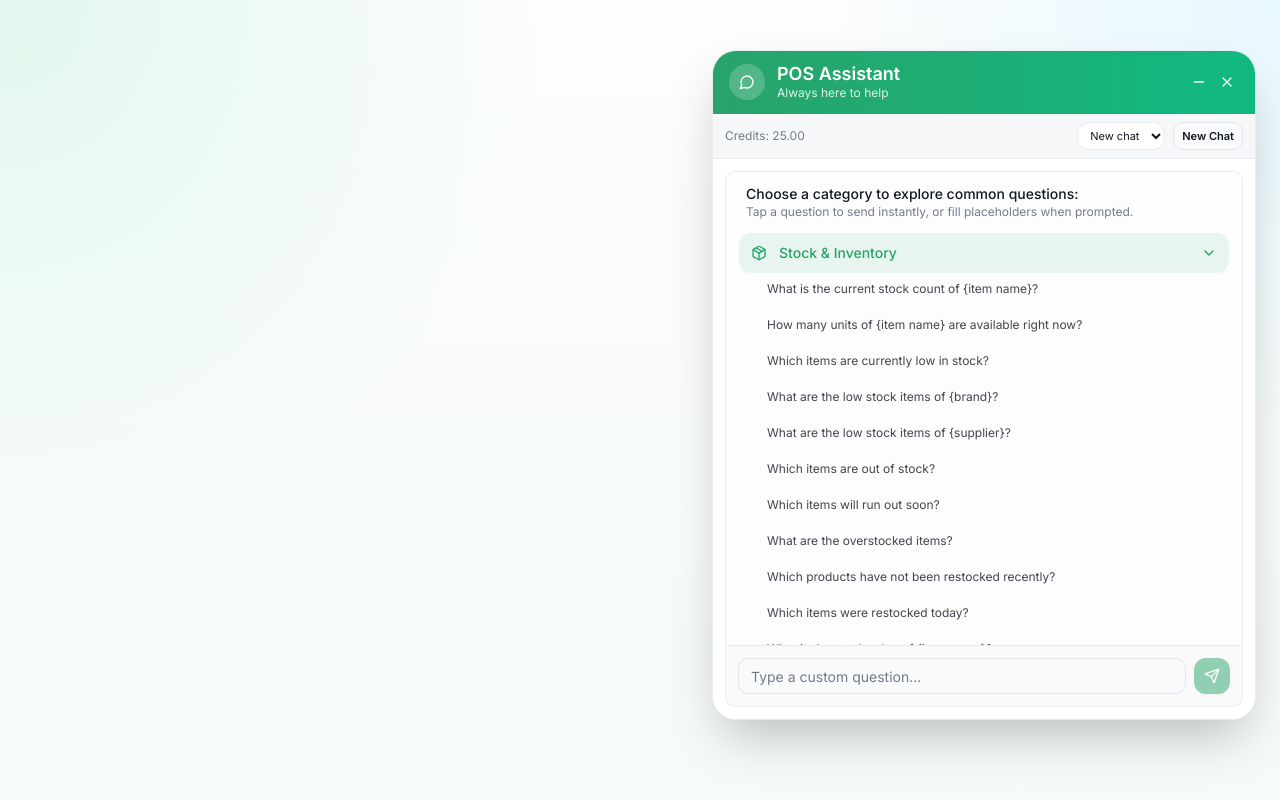
Scenario: AiInsightsDialog › loads wallet and history, shows an optimistic user bubble, and reconciles the streamed assistant response
The width and height of the screenshot is (1280, 800).
Expected: the text "Credits: 25.00" is shown, [725, 128, 805, 144]
In the field with placeholder "Type a custom question...": (962, 676) [738, 658, 1186, 694], type "What needs reorder first?"
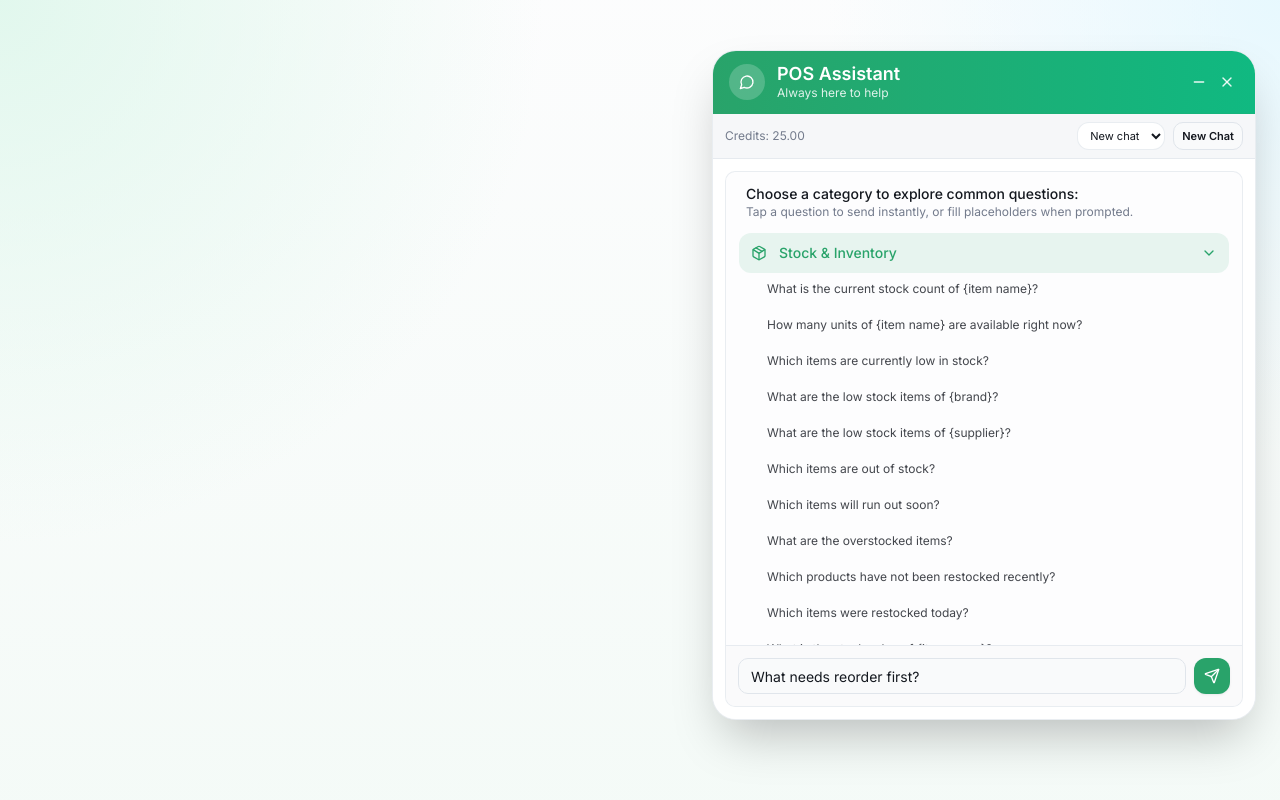
Click the button named "Send custom question": (1212, 676) [1194, 658, 1230, 694]
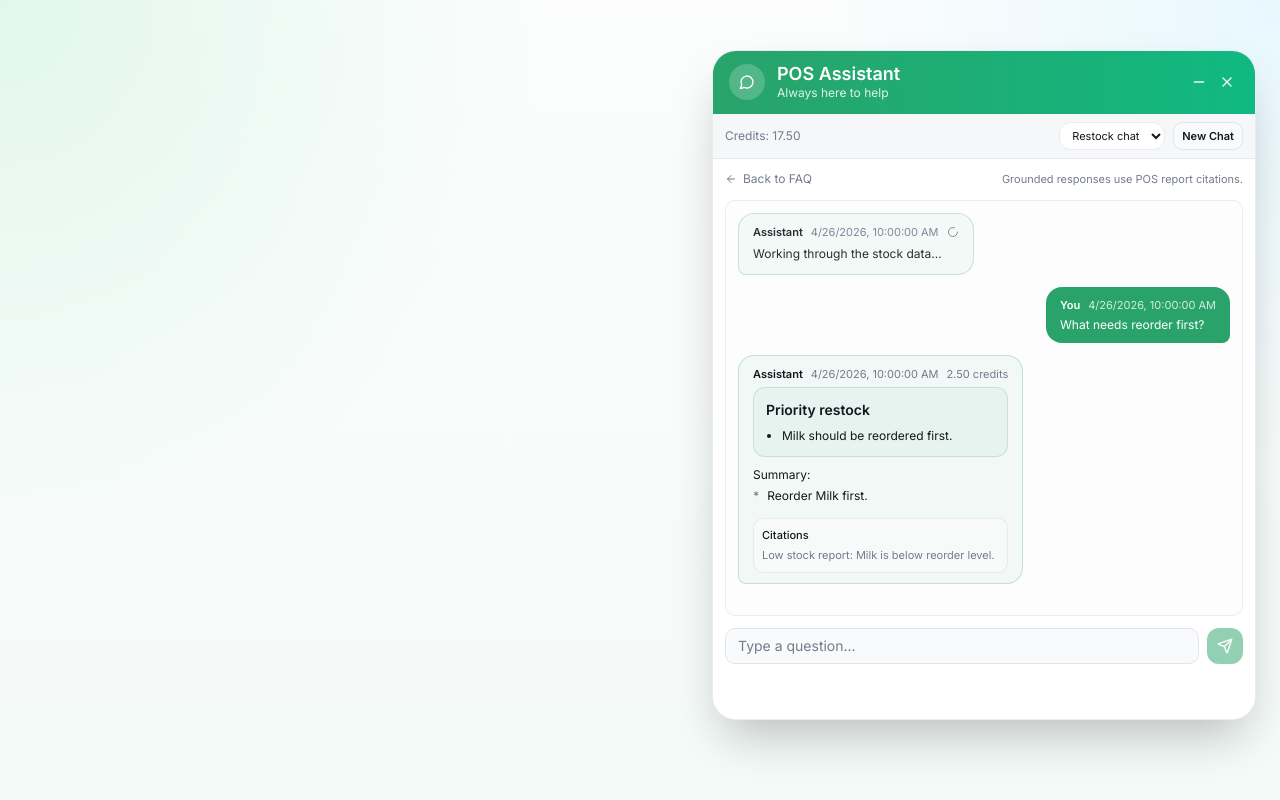
Expected: the text "Working through the stock data..." is shown, [753, 244, 959, 264]
Expected: the text "Priority restock" is shown, [766, 400, 870, 418]
Expected: the text "Credits: 17.50" is shown, [725, 128, 800, 144]
